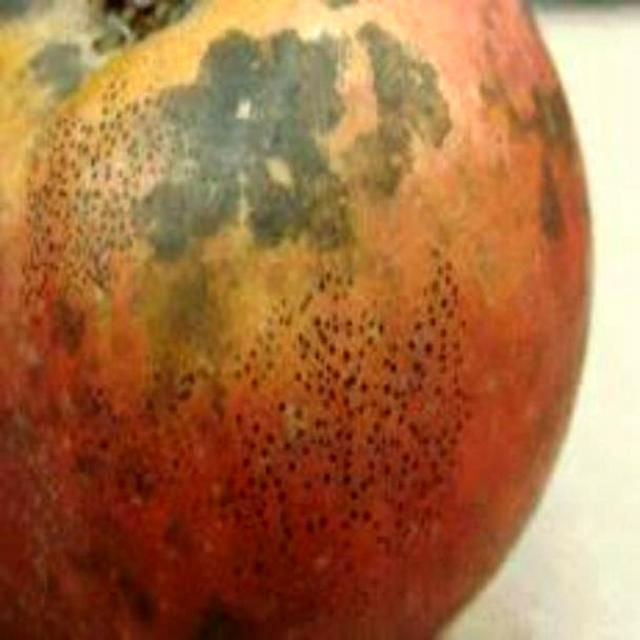BLOTCH: (10, 16, 617, 622)
